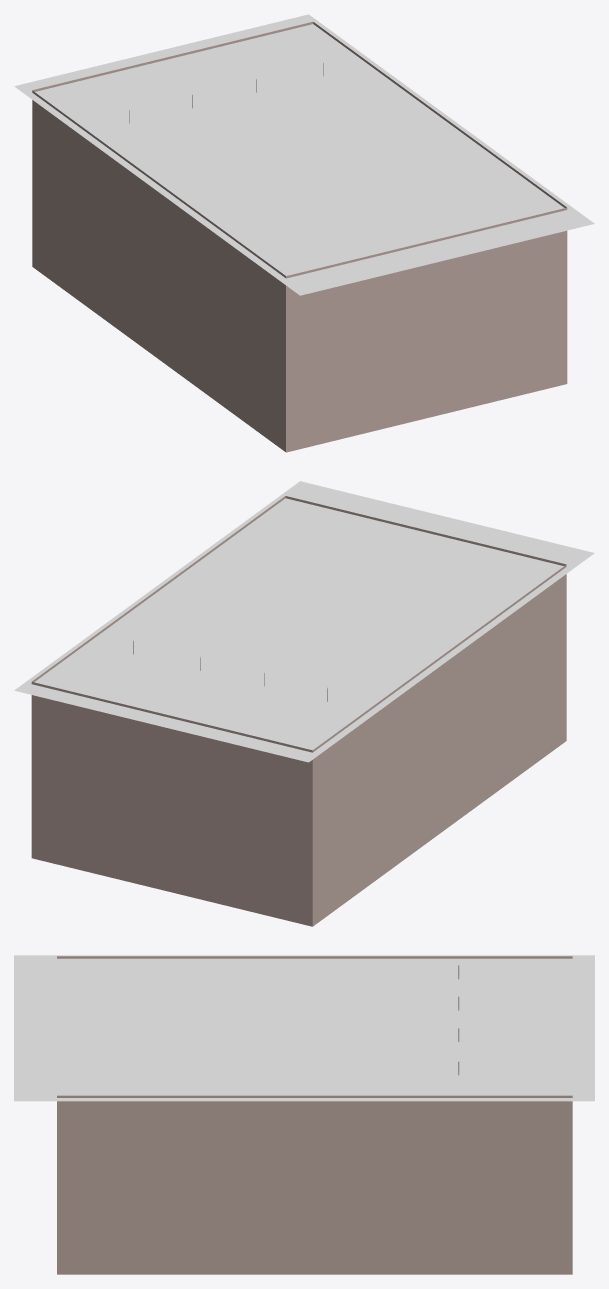
File: bar 1.dae
3 renders of one model, top to bottom at view 1: azimuth 30°, elevation 25°; view 2: azimuth 150°, elevation 25°; view 3: azimuth 270°, elevation 25°, orthographic.
Visible parts, largest first — view 1: Room, Plane_007; view 2: Room, Plane_007; view 3: Room, Plane_007.
Part boxes in pixels (x1,y1,x2,y2): Room: [32, 22, 567, 452]; Plane_007: [14, 14, 594, 295]; Room: [31, 496, 566, 926]; Plane_007: [14, 481, 594, 762]; Room: [57, 956, 572, 1274]; Plane_007: [14, 955, 594, 1101].
Size of the model in its own units: 4.2 by 7.05 by 2.56.
